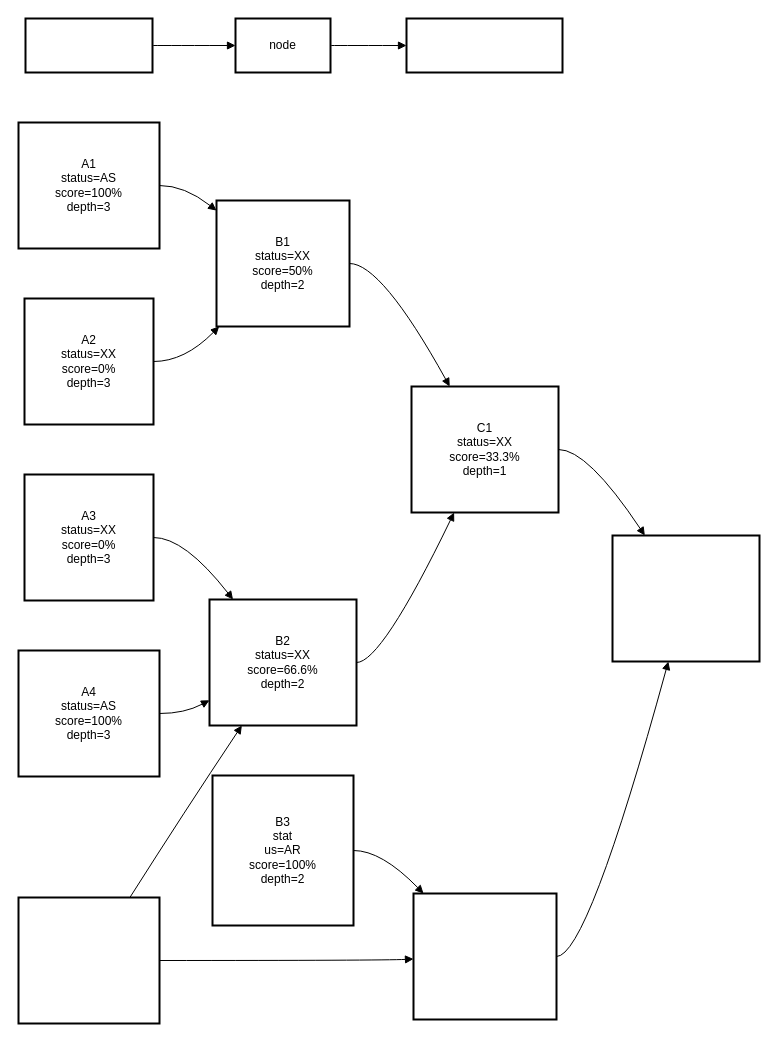
Some shapes in this 777 by 1041 pixel diagram are drawn without their labels. Each missing label, with the centre of its shape:
"A5 status=AR score=100% depth=2" goes at [88,960].
"C2 status=COM score=100% depth=1" goes at [484,956].
"D1 status=EPV score=66.6% depth=0" goes at [685,598].
"downstream2" goes at [484,45].
"upstream" goes at [88,45].
